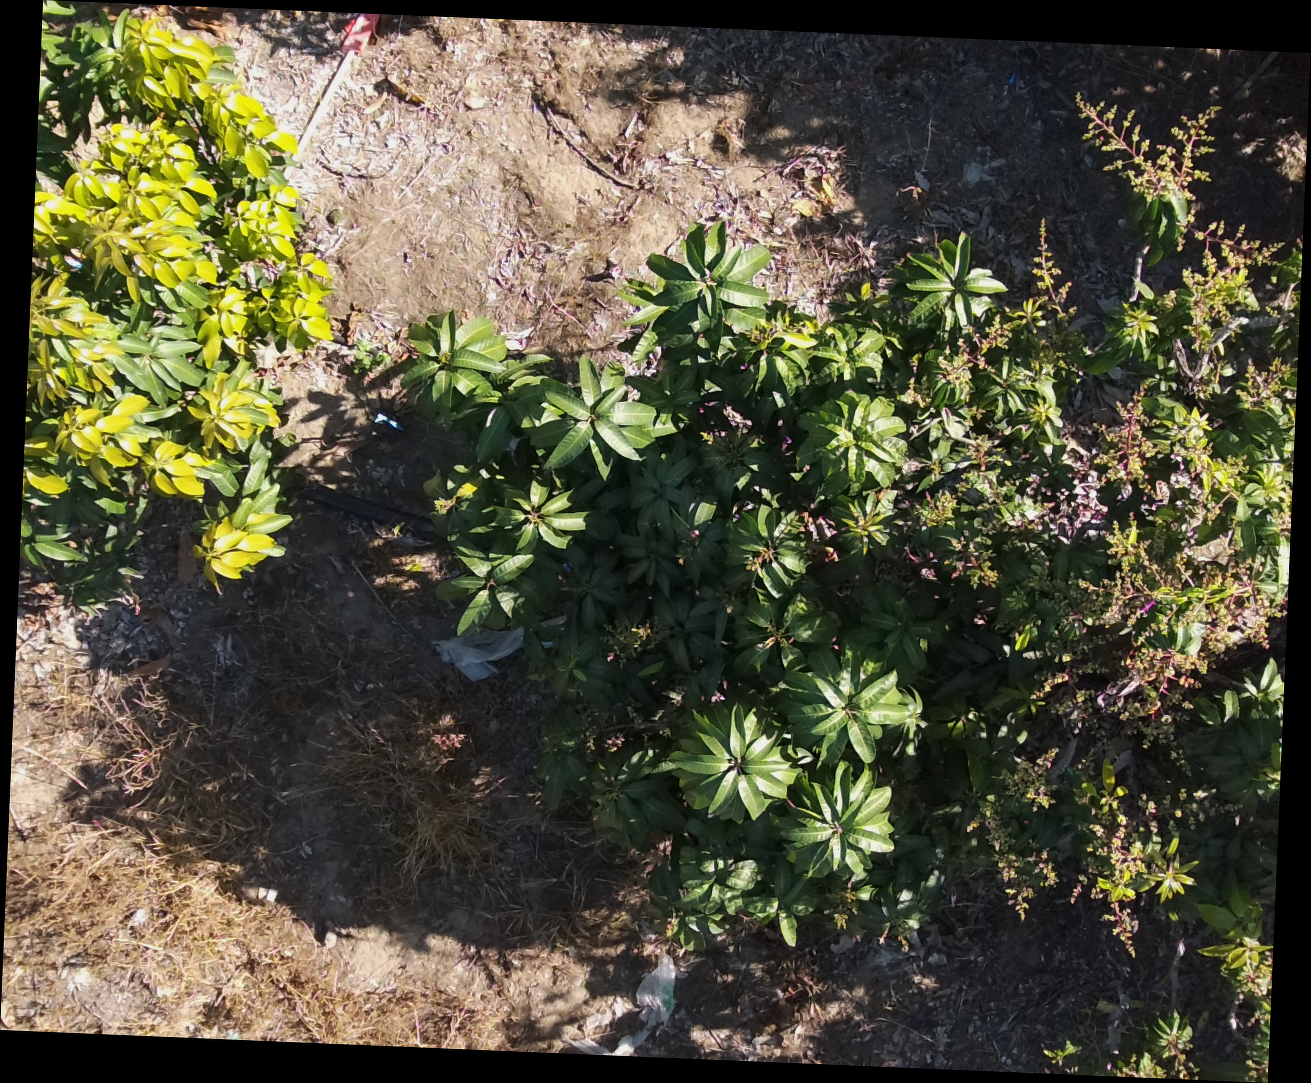flowers: (1045, 521, 1286, 740), (1076, 762, 1197, 957), (1120, 404, 1245, 544), (1074, 97, 1216, 200), (1176, 227, 1281, 353), (967, 795, 1057, 919), (1200, 935, 1270, 1081), (1012, 222, 1075, 335), (935, 321, 1010, 405), (1111, 1011, 1200, 1078), (945, 529, 998, 588), (1236, 358, 1296, 410), (1009, 746, 1055, 811), (1274, 132, 1306, 182), (1265, 484, 1291, 536), (127, 1023, 160, 1036)
